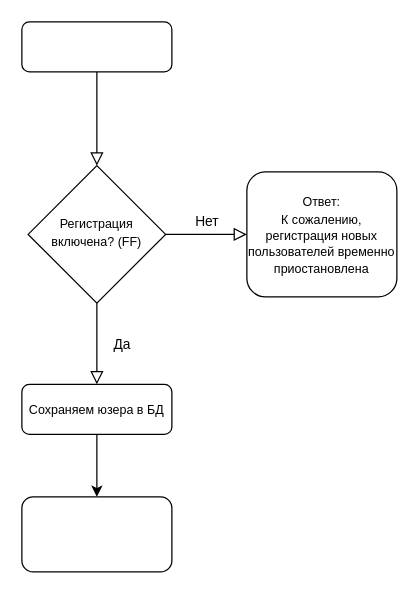
Some shapes in this 419 by 594 pixel diagram are drawn without their labels. The centre of each missing label's shape, as x and y in pixels:
"Нажат /start" goes at (96,46).
"Отправляем приветственное сообщение" goes at (96,534).
